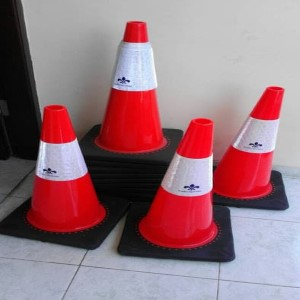traffic cone: (1, 105, 130, 250), (117, 117, 235, 262), (71, 20, 184, 165), (198, 86, 288, 210)
